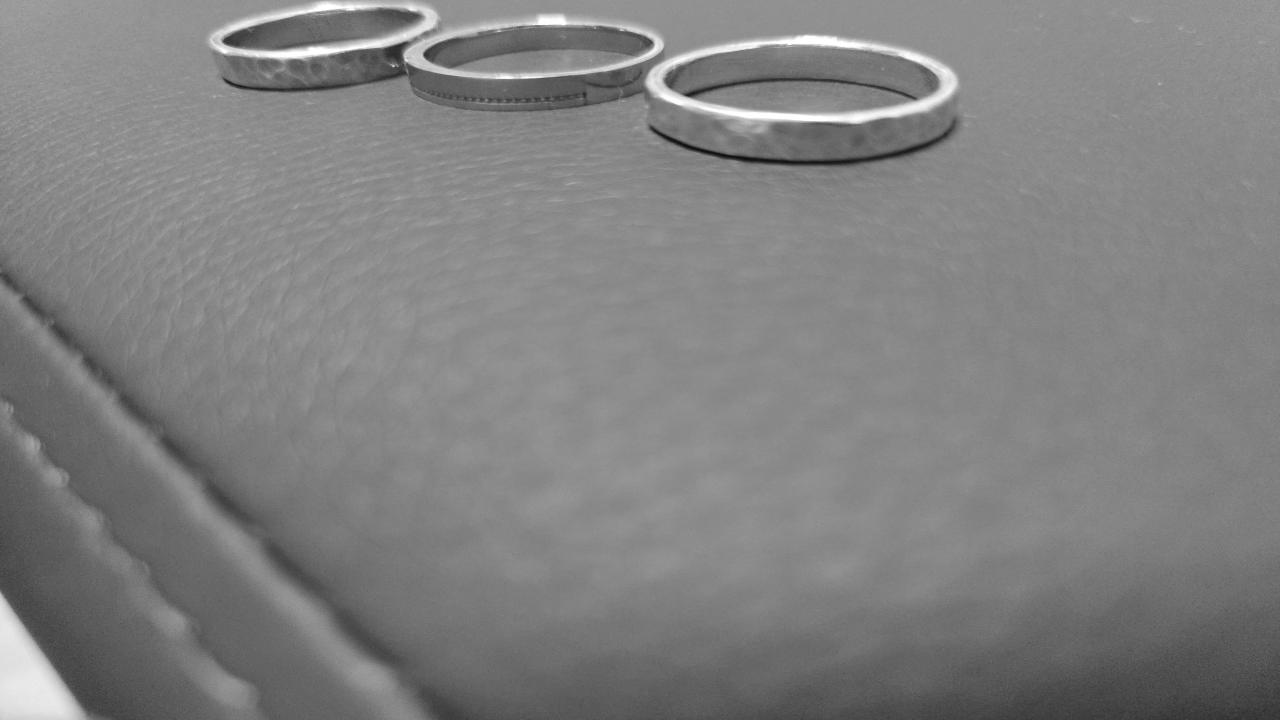ring: (646, 38, 964, 164), (402, 17, 666, 113), (204, 0, 440, 92)
